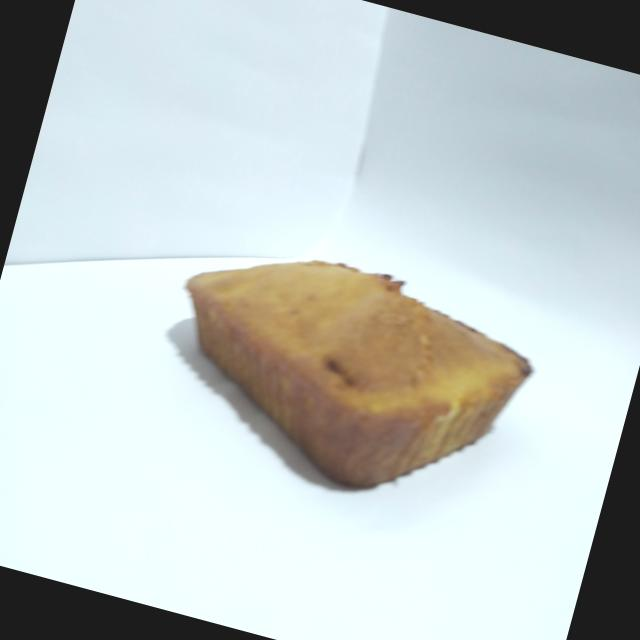Sopa: (134, 199, 558, 537)
